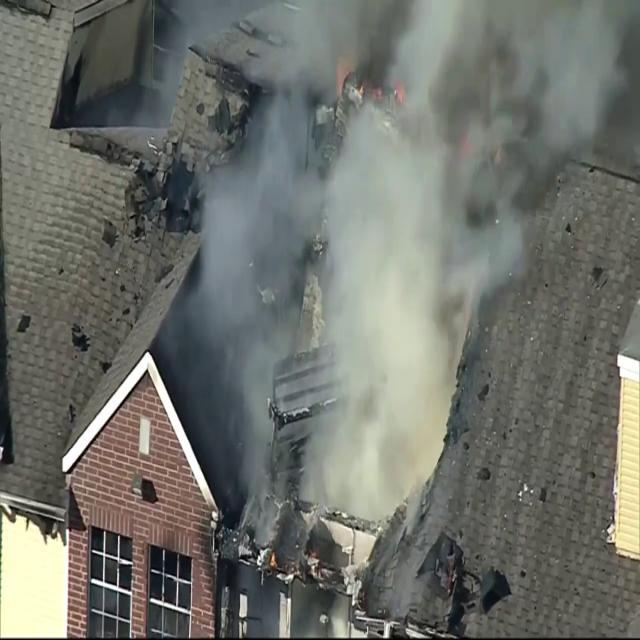Smoke: (165, 0, 635, 531)
